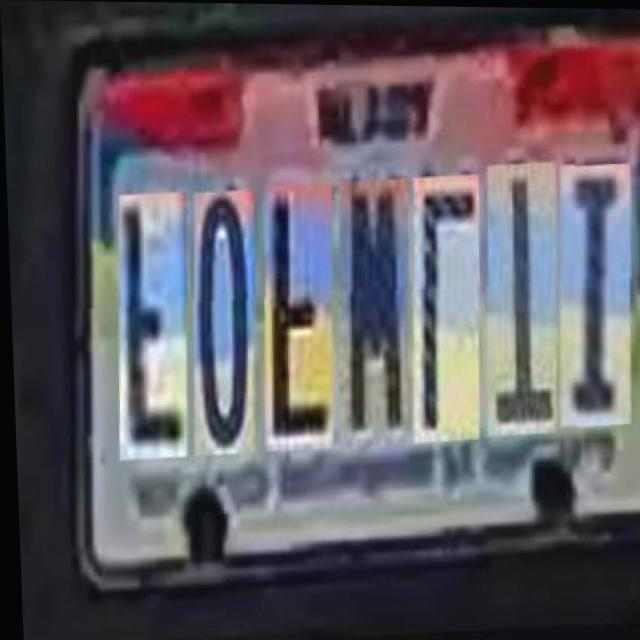f: (109, 193, 190, 463), (255, 187, 336, 457)
i: (550, 169, 634, 435)
l: (403, 180, 483, 450)
o: (184, 192, 257, 460)
t: (476, 168, 559, 444)
w: (329, 184, 412, 453)
